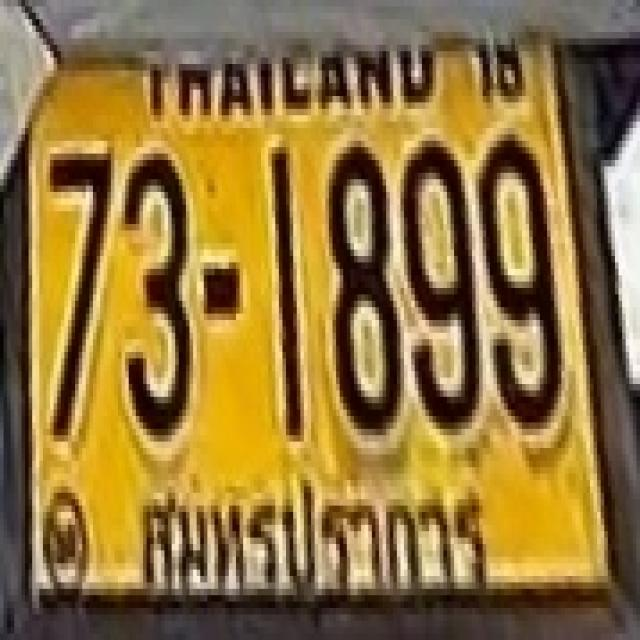1: (270, 141, 298, 435)
3: (122, 150, 190, 432)
7: (46, 147, 111, 429)
8: (325, 141, 397, 429)
9: (478, 131, 560, 426), (400, 137, 476, 426)
SPK: (134, 464, 500, 615)
